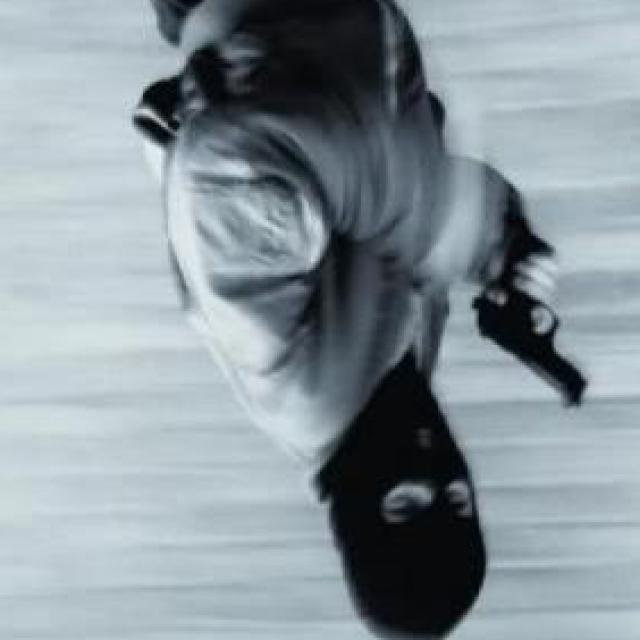pistol: (477, 220, 588, 415)
